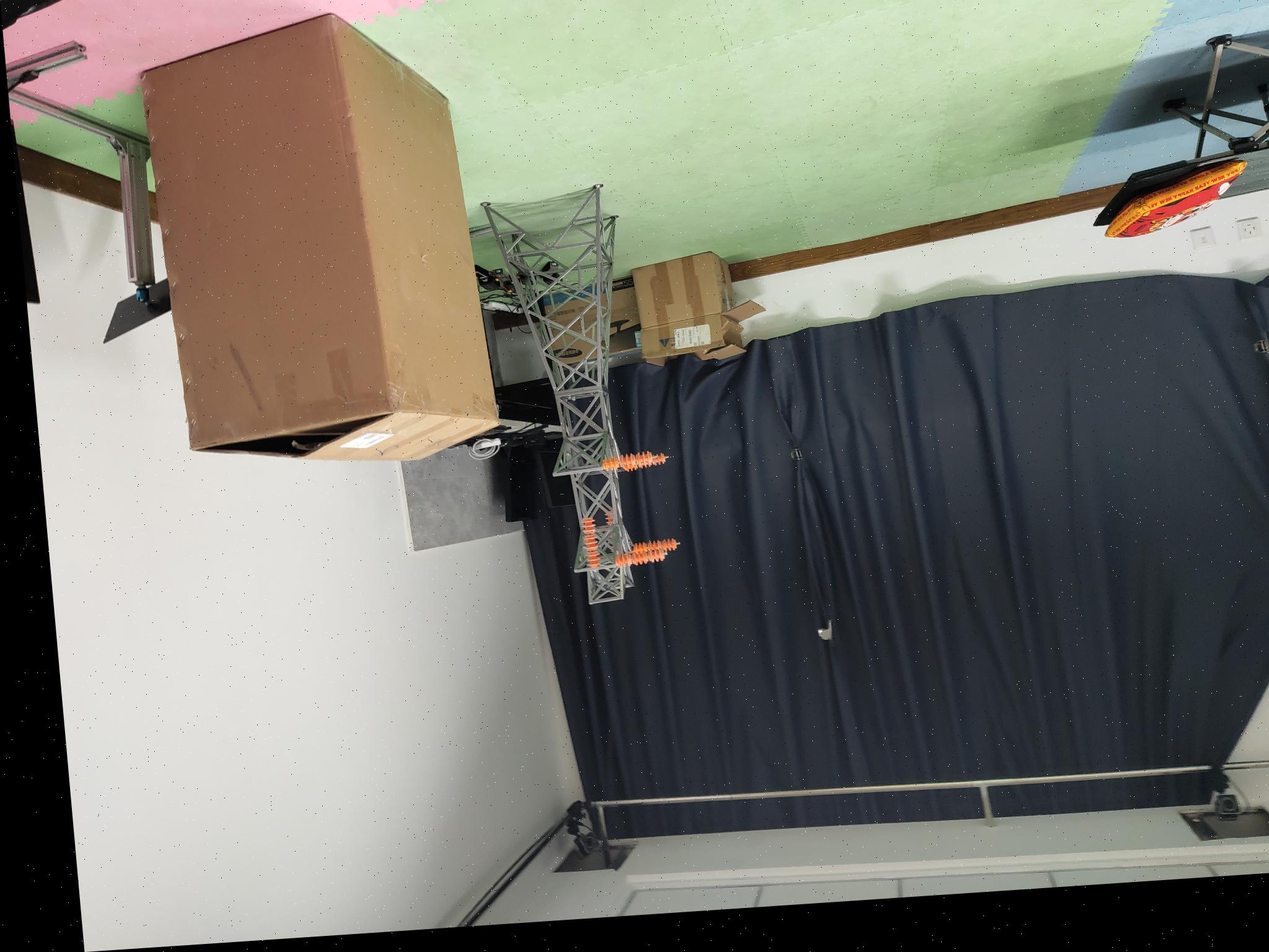tower: (484, 187, 654, 608)
